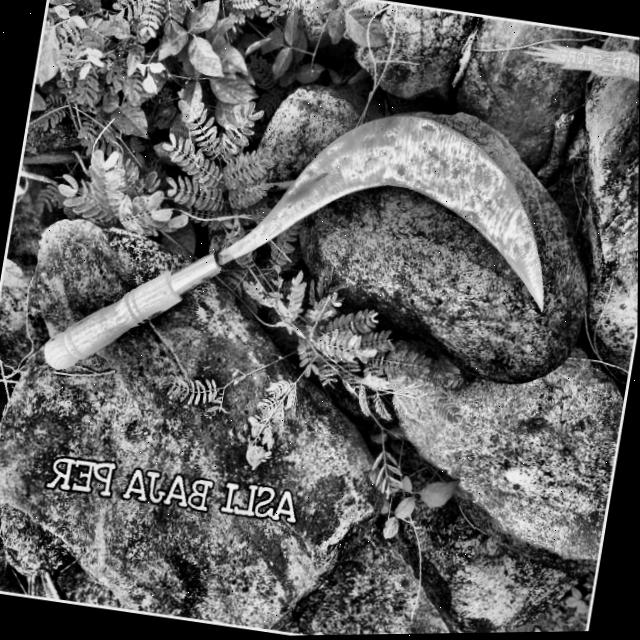celurit: (33, 110, 542, 379)
